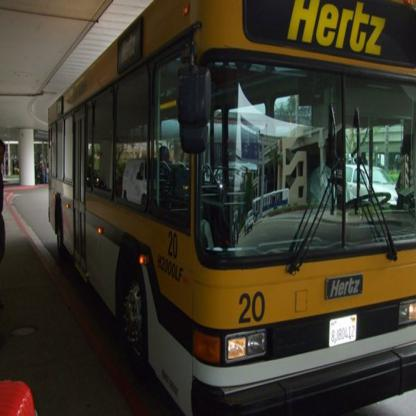Bus: (47, 0, 416, 416)
